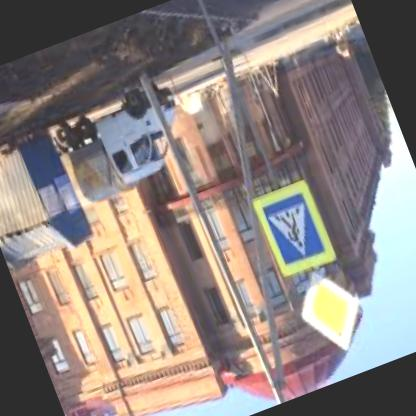crosswalk: (265, 194, 326, 266)
